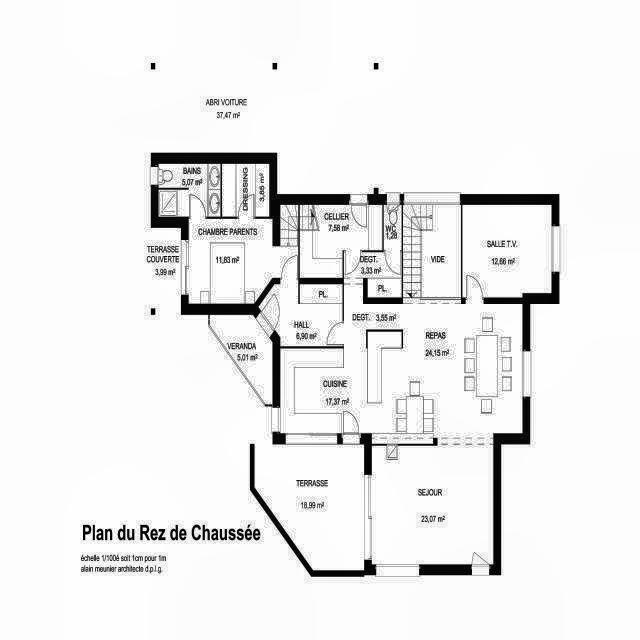room: (280, 284, 523, 444), (372, 446, 493, 564), (203, 294, 302, 408), (189, 219, 298, 304), (462, 205, 552, 297), (300, 205, 382, 278), (403, 205, 461, 297), (259, 284, 343, 346), (159, 164, 221, 217), (344, 252, 402, 298), (222, 164, 269, 217), (384, 205, 402, 250), (280, 205, 298, 246)
